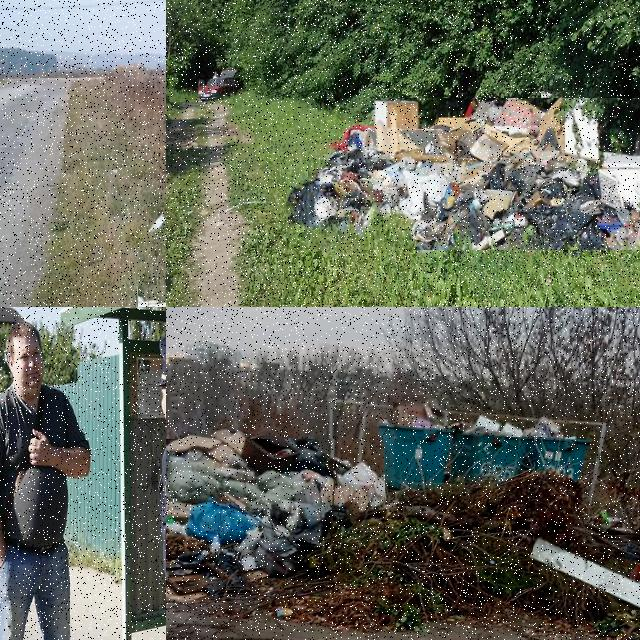lixeira: (287, 99, 639, 252), (166, 440, 387, 541), (533, 536, 639, 613), (394, 396, 451, 428), (464, 414, 521, 438), (527, 417, 571, 438), (602, 506, 635, 533), (150, 213, 164, 230)
